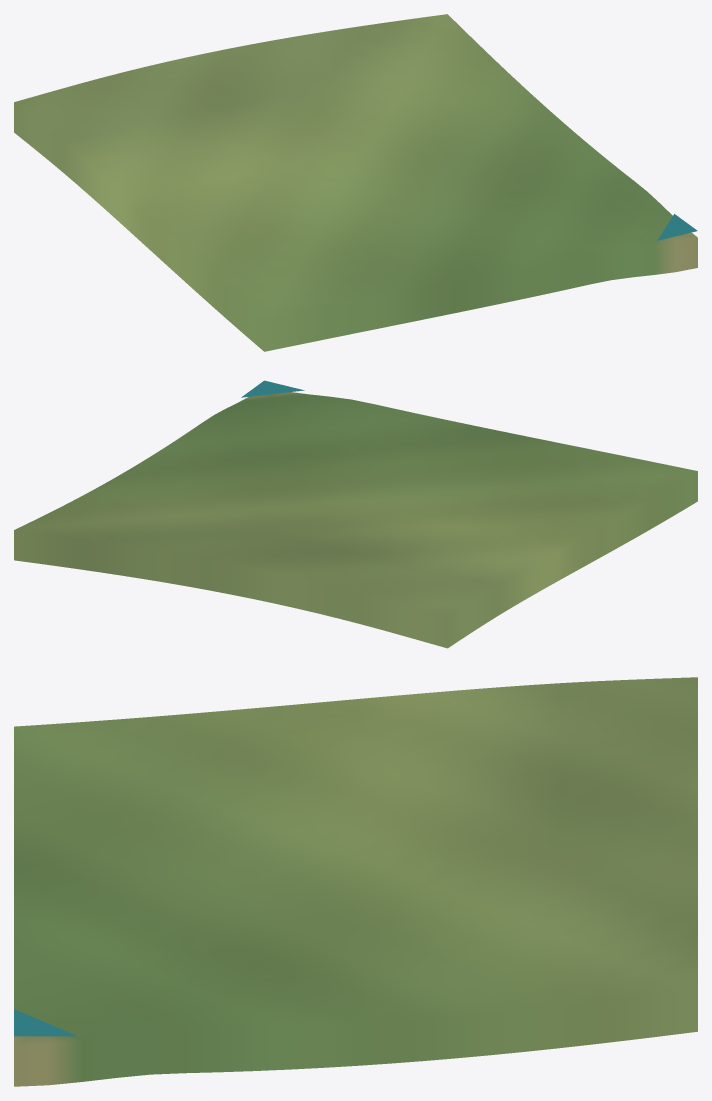
3 renders of one model, top to bottom at view 1: azimuth 30°, elevation 25°; view 2: azimuth 150°, elevation 25°; view 3: azimuth 270°, elevation 25°, orthographic. The views are drawn at different scales.
Parts seen in each view (by area): view 1: terrain; view 2: terrain, scenery; view 3: terrain, scenery.
Part boxes in pixels (<box>): terrain: <box>14,14,697,351</box>; terrain: <box>14,392,697,648</box>; scenery: <box>241,380,304,397</box>; terrain: <box>14,677,697,1086</box>; scenery: <box>14,1009,77,1036</box>.
Bounding box in the file's own units: 30 × 6.05 × 30.
